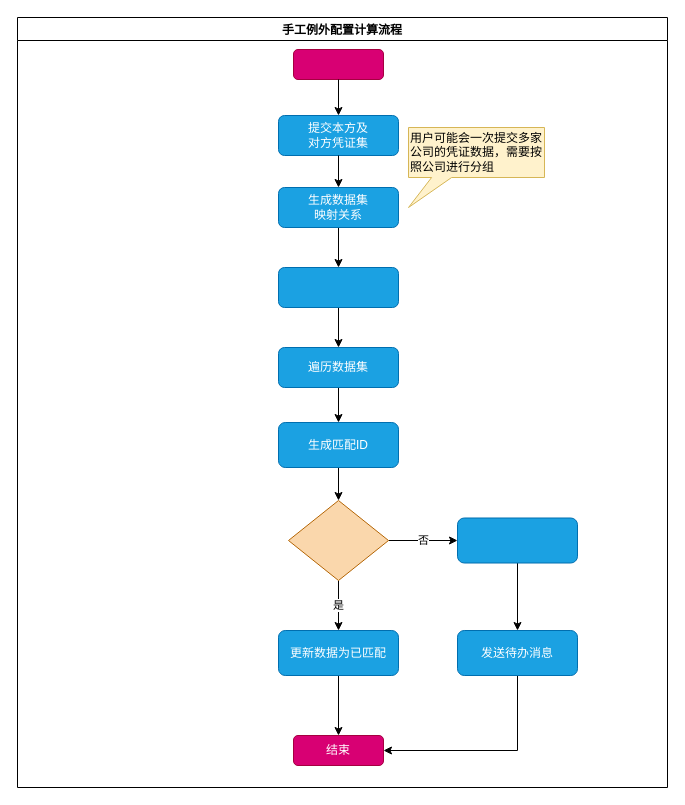
This 685x805 diagram has some shape labels left out. Each missing label, with the centre of its shape:
"开始" goes at point 338,64.
"是否有对方 公司权限？" goes at point 338,540.
"更新数据为待确认" goes at point 517,540.
"校验数据集凭证" goes at point 338,287.
